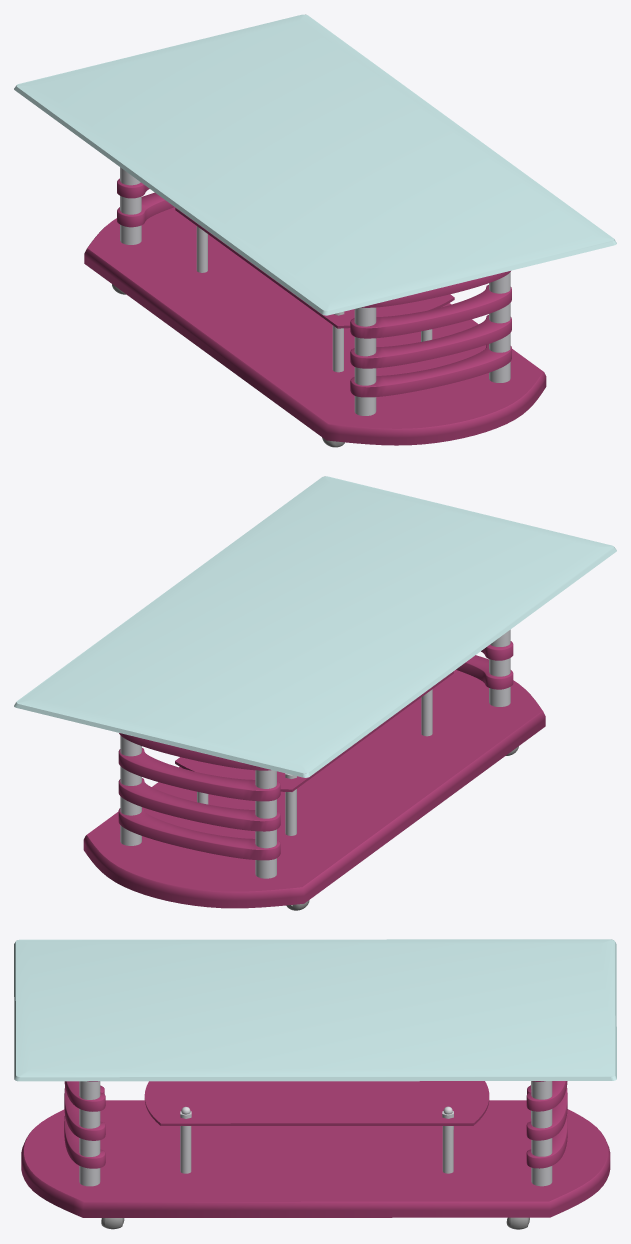
The model's file is Tablefur1.glb.
The picture shows the model from 3 angles, top to bottom: view 1: azimuth 30°, elevation 25°; view 2: azimuth 150°, elevation 25°; view 3: azimuth 270°, elevation 25°; orthographic projection. The views are drawn at different scales.
Visible parts, largest first — view 1: 10; view 2: 10; view 3: 10.
Boxes of the visible parts, left/top/right/bottom form: 10: left=14, top=14, right=616, bottom=447; 10: left=14, top=476, right=616, bottom=910; 10: left=14, top=939, right=616, bottom=1229.
Size of the model in its own units: 2.7 by 1.64 by 4.93.
